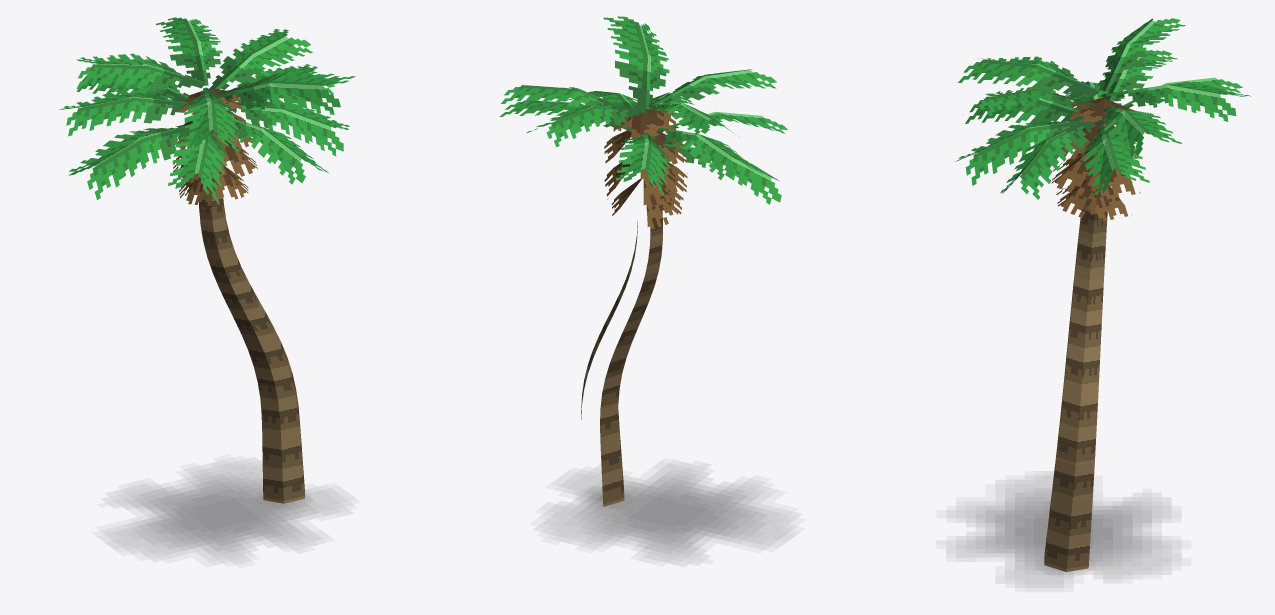
The model's file is palm_left.glb.
3 renders of one model, left to right at view 1: azimuth 30°, elevation 25°; view 2: azimuth 150°, elevation 25°; view 3: azimuth 270°, elevation 25°, orthographic. The views are drawn at different scales.
Parts seen in each view (by area): view 1: c15_wood_01_3, PalmShadow, c15_wood_01, c15_wood_2; view 2: c15_wood_01_3, PalmShadow, c15_wood_01, c15_wood_2; view 3: c15_wood_01_3, c15_wood_01, PalmShadow, c15_wood_2.
Part boxes in pixels (left/top/right/bottom): c15_wood_01_3: left=59, top=17, right=355, bottom=201; PalmShadow: left=113, top=463, right=339, bottom=557; c15_wood_01: left=199, top=177, right=304, bottom=503; c15_wood_2: left=173, top=88, right=257, bottom=206; c15_wood_01_3: left=499, top=16, right=787, bottom=204; PalmShadow: left=550, top=467, right=786, bottom=559; c15_wood_01: left=581, top=131, right=662, bottom=506; c15_wood_2: left=604, top=107, right=687, bottom=229; c15_wood_01_3: left=955, top=18, right=1251, bottom=199; c15_wood_01: left=1044, top=120, right=1107, bottom=571; PalmShadow: left=956, top=475, right=1171, bottom=583; c15_wood_2: left=1051, top=97, right=1142, bottom=221.
Size of the model in its own units: 69.59 by 106 by 72.76.
Materials: 5 (5 with a texture image).
